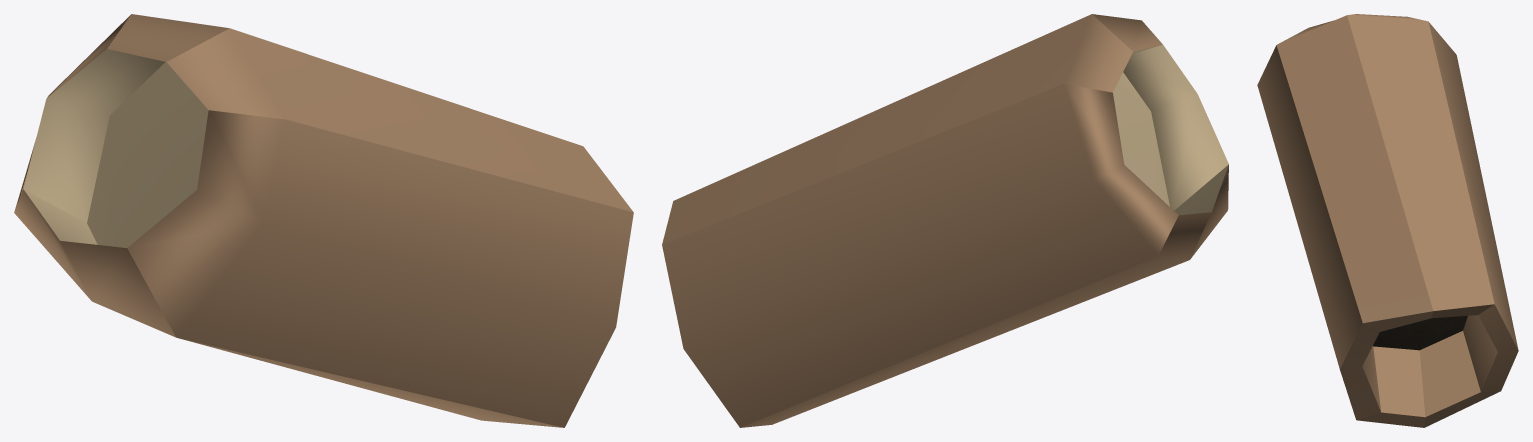
The model's file is Robo_Cannon.fbx.
3 renders of one model, left to right at view 1: azimuth 30°, elevation 25°; view 2: azimuth 150°, elevation 25°; view 3: azimuth 270°, elevation 25°, orthographic. The views are drawn at different scales.
Visible parts, largest first — view 1: pCube1; view 2: pCube1; view 3: pCube1.
Boxes of the visible parts, <box> form: pCube1: <box>14,14,633,427</box>; pCube1: <box>662,14,1228,427</box>; pCube1: <box>1257,14,1518,427</box>.
Size of the model in its own units: 8.83 by 7.5 by 5.59.
Materials: 1 (1 with a texture image).
